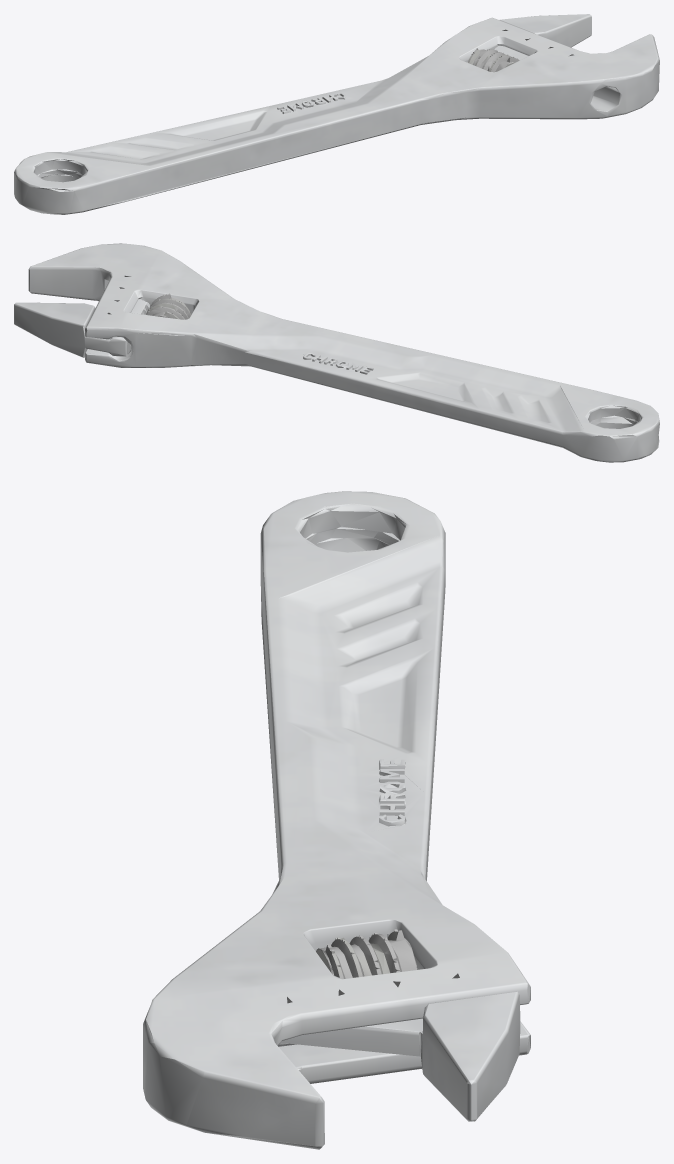
Rendered from p_wrench.glb.
The picture shows the model from 3 angles, top to bottom: view 1: azimuth 30°, elevation 25°; view 2: azimuth 150°, elevation 25°; view 3: azimuth 270°, elevation 25°; orthographic projection. The views are drawn at different scales.
Parts seen in each view (by area): view 1: p_wrench_mesh; view 2: p_wrench_mesh; view 3: p_wrench_mesh.
Boxes of the visible parts, box(x1,y1,x2,y2) form: p_wrench_mesh: box(14, 14, 659, 214); p_wrench_mesh: box(14, 243, 659, 462); p_wrench_mesh: box(143, 491, 530, 1149).
Size of the model in its own units: 0.2095 by 0.0139 by 0.0564.
Materials: 3 (2 with a texture image).
